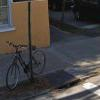Bicycle: (4, 34, 48, 92)
